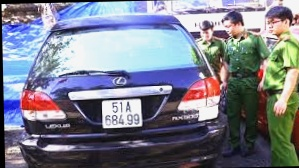Bien-so: (95, 96, 141, 126)
